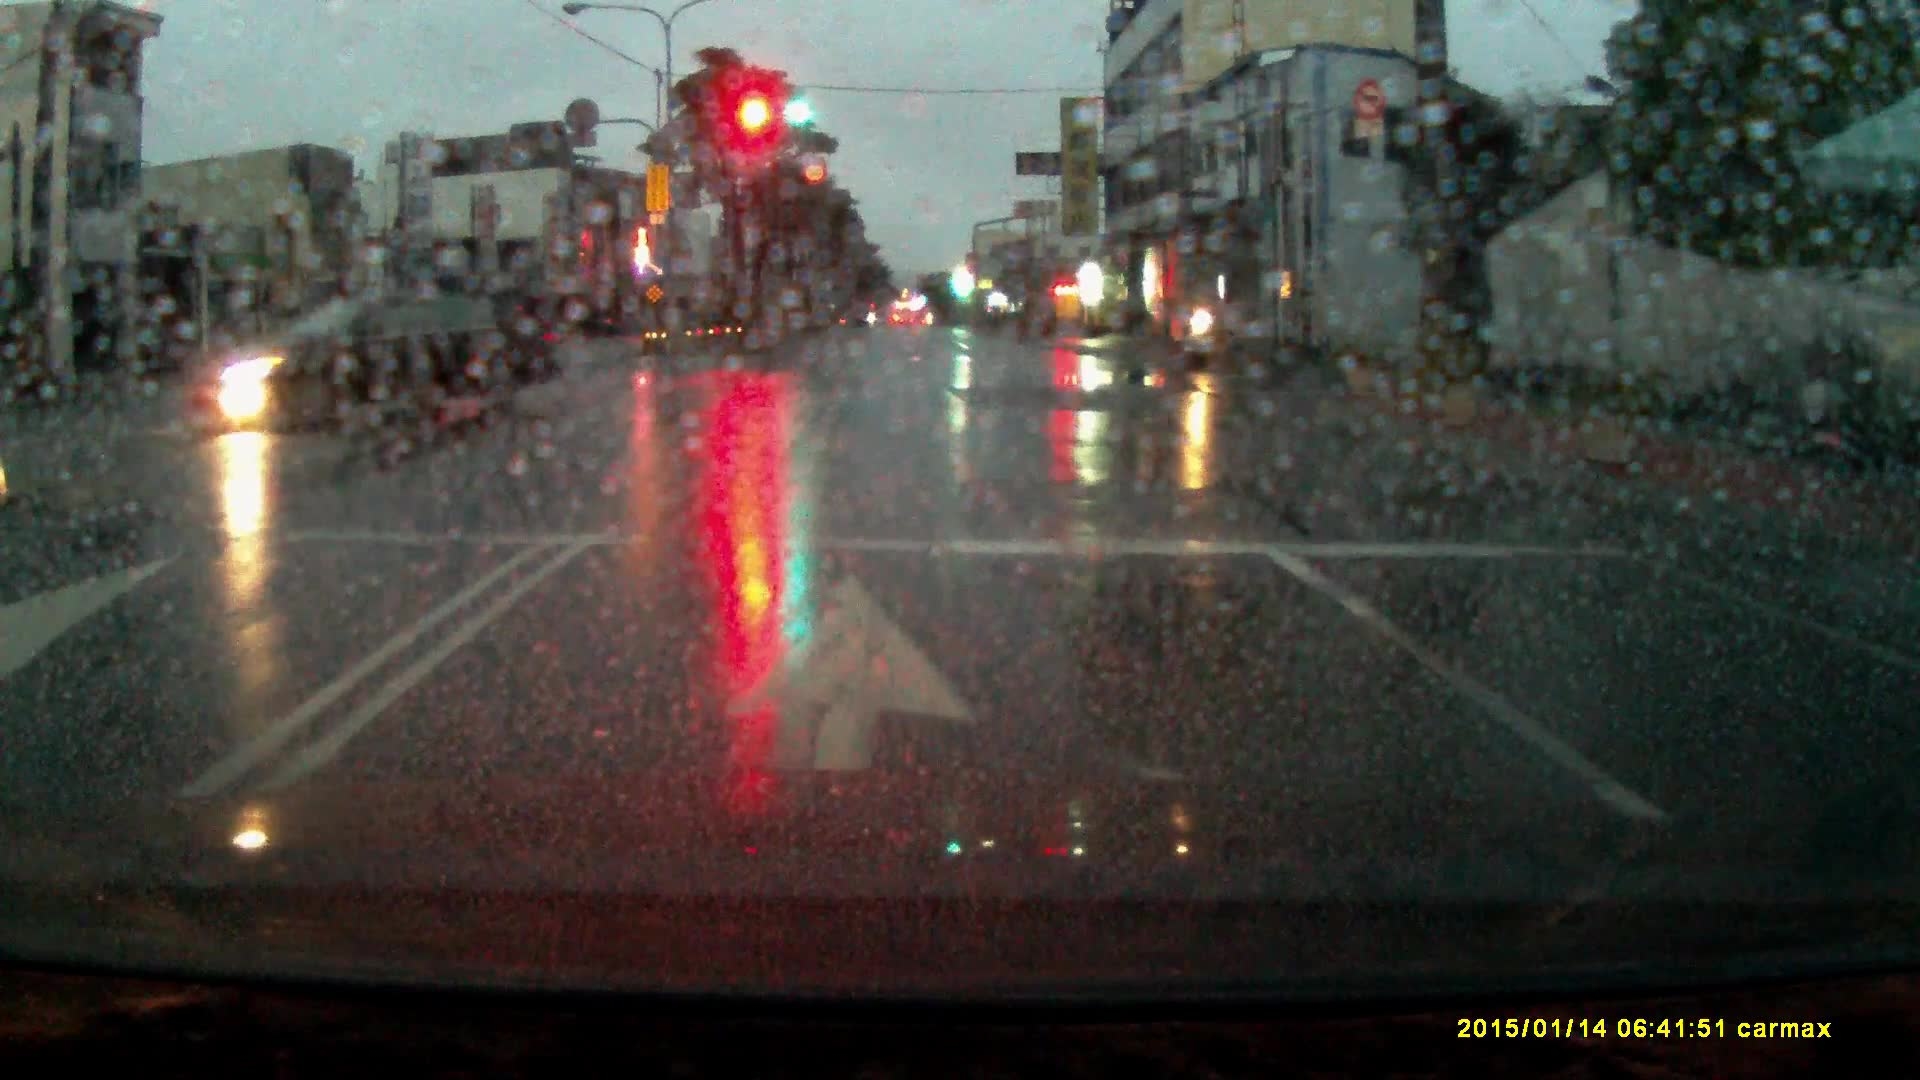rider: (1165, 283, 1252, 372)
vehicle: (207, 290, 561, 434)
